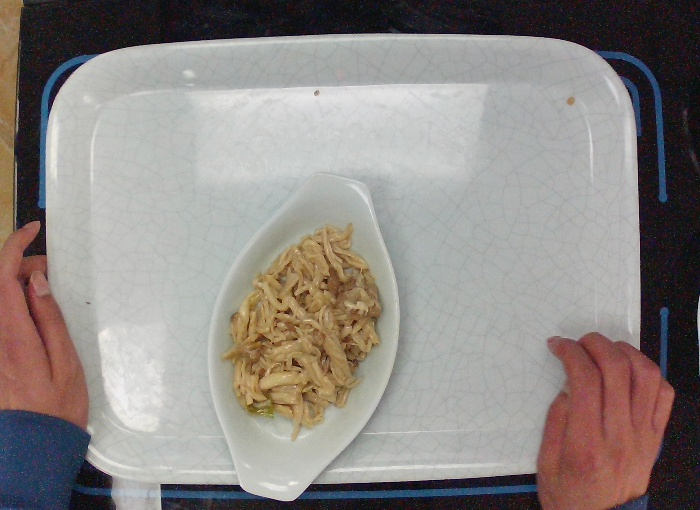JYsf-Yu_Pan: (198, 171, 407, 506)
